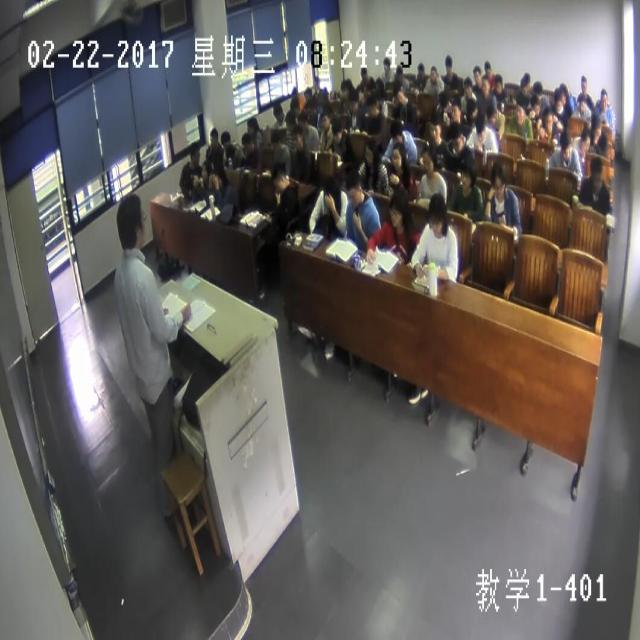person: (115, 192, 146, 249), (387, 191, 410, 233), (426, 189, 447, 234), (320, 178, 340, 214), (345, 168, 363, 207), (490, 161, 508, 197), (589, 156, 605, 191), (458, 155, 476, 186), (419, 140, 436, 172), (271, 162, 289, 192), (362, 135, 379, 166), (388, 120, 406, 146), (391, 138, 405, 169), (208, 158, 224, 185), (330, 115, 344, 144), (473, 111, 487, 140), (451, 125, 465, 152), (542, 105, 555, 134), (198, 153, 210, 184), (427, 113, 441, 139), (558, 130, 571, 158), (240, 130, 255, 154), (590, 112, 602, 142), (449, 96, 462, 123), (244, 115, 260, 136), (492, 71, 506, 95), (579, 126, 591, 154), (365, 92, 378, 117), (188, 140, 200, 166), (283, 106, 296, 130), (340, 74, 352, 100), (558, 80, 570, 106), (576, 91, 588, 117), (515, 96, 526, 124), (552, 87, 563, 115), (486, 102, 499, 125), (291, 121, 302, 148), (438, 88, 450, 112), (269, 128, 282, 150), (220, 128, 232, 150), (297, 108, 308, 132), (320, 108, 332, 130), (395, 82, 407, 104), (598, 85, 609, 108), (271, 101, 283, 122), (348, 86, 358, 110), (530, 91, 540, 114), (306, 96, 318, 115), (428, 64, 439, 84), (472, 62, 482, 84), (467, 97, 477, 118), (463, 74, 473, 95), (226, 141, 237, 160), (288, 97, 299, 116), (380, 53, 391, 72), (481, 74, 490, 97), (534, 75, 543, 98), (483, 58, 493, 78), (579, 73, 589, 93), (444, 52, 453, 74), (311, 72, 321, 91), (523, 72, 534, 89), (395, 60, 404, 80), (416, 60, 425, 80), (210, 125, 218, 147), (358, 65, 368, 81), (355, 81, 364, 98), (373, 73, 382, 90), (291, 86, 300, 101), (303, 85, 312, 100), (519, 76, 526, 93)
